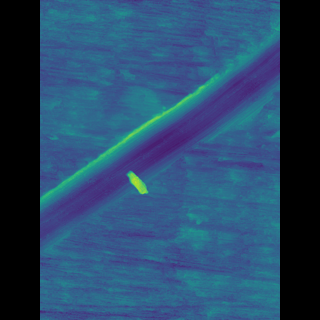Loch: (69, 33, 250, 255)
